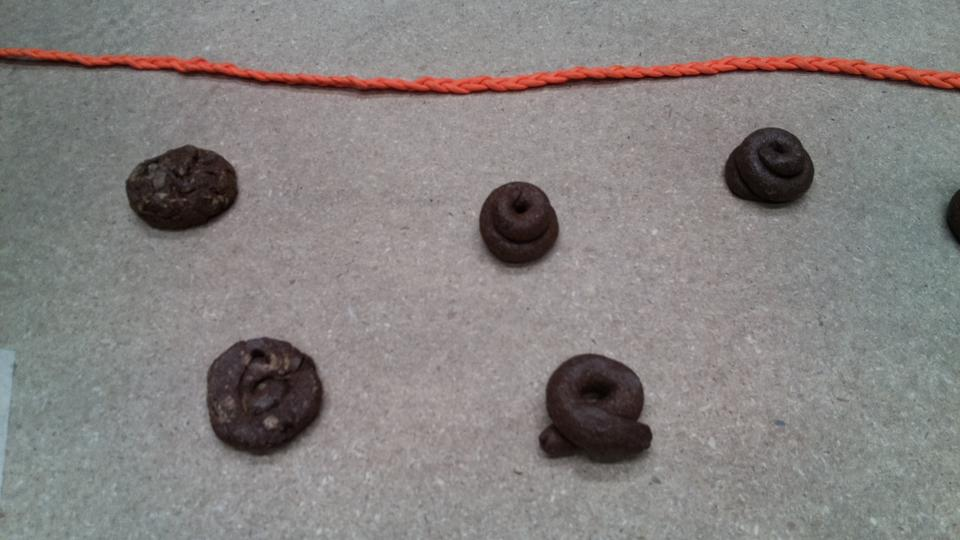poop: (196, 334, 327, 461), (541, 350, 652, 465), (123, 139, 239, 236), (479, 179, 567, 267), (729, 123, 817, 210)
rope: (1, 38, 960, 106)
